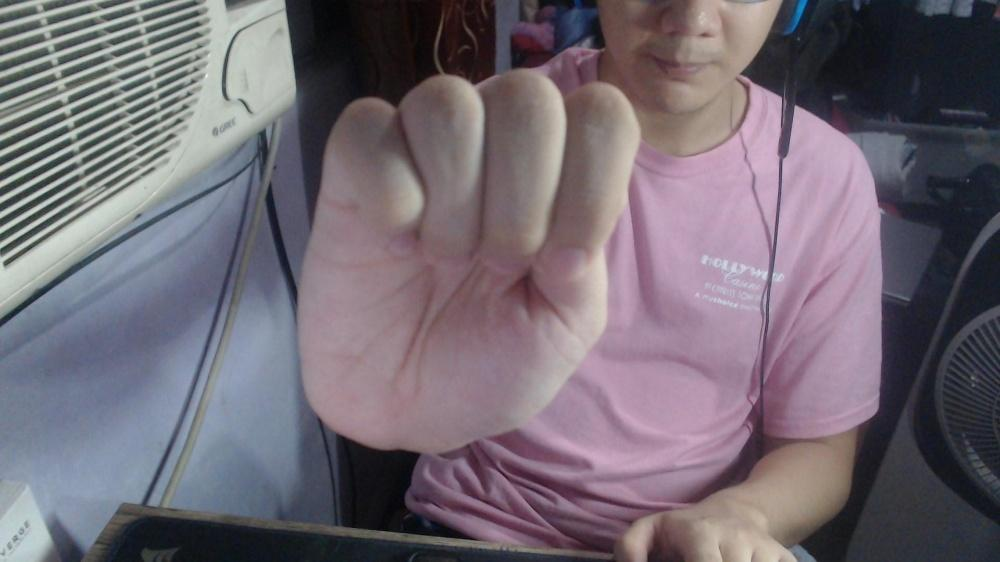m: (288, 62, 645, 459)
